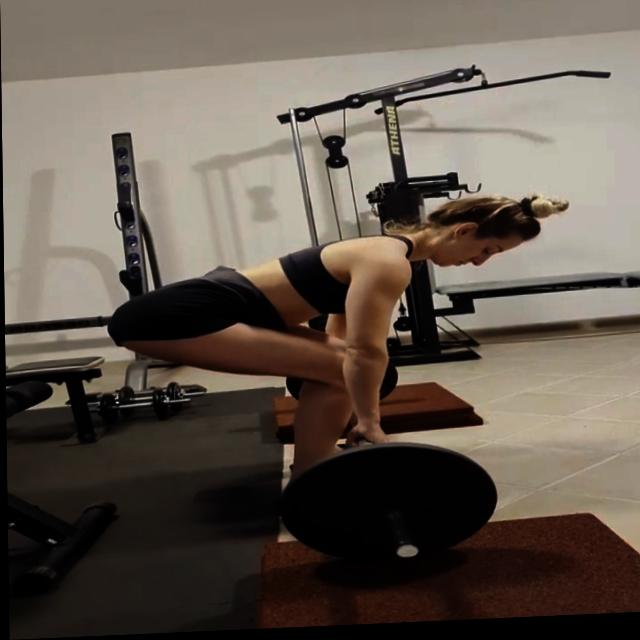barbell: (269, 440, 501, 583)
